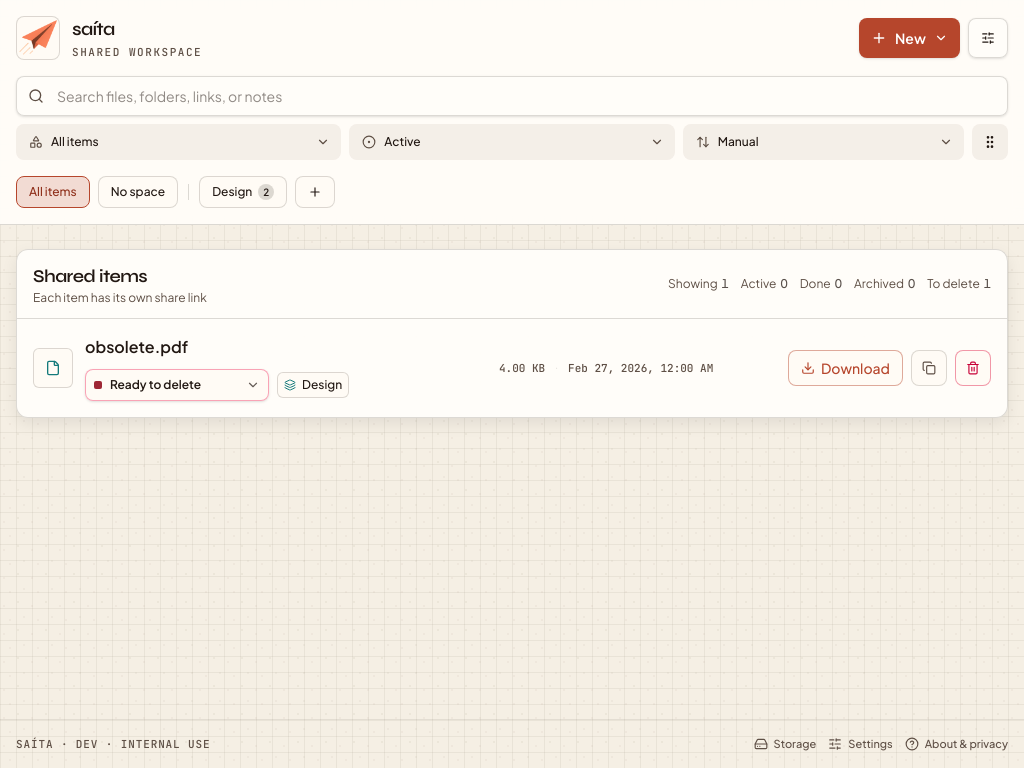
Scenario: refetches spaces after deleting a ready-to-delete item
Expected: the text "obsolete.pdf" is shown, left=85, top=336, right=188, bottom=357
Expected: the button "Design 2" is shown, left=199, top=176, right=287, bottom=208
Click the button named "Delete" at (973, 368), box left=955, top=350, right=991, bottom=386
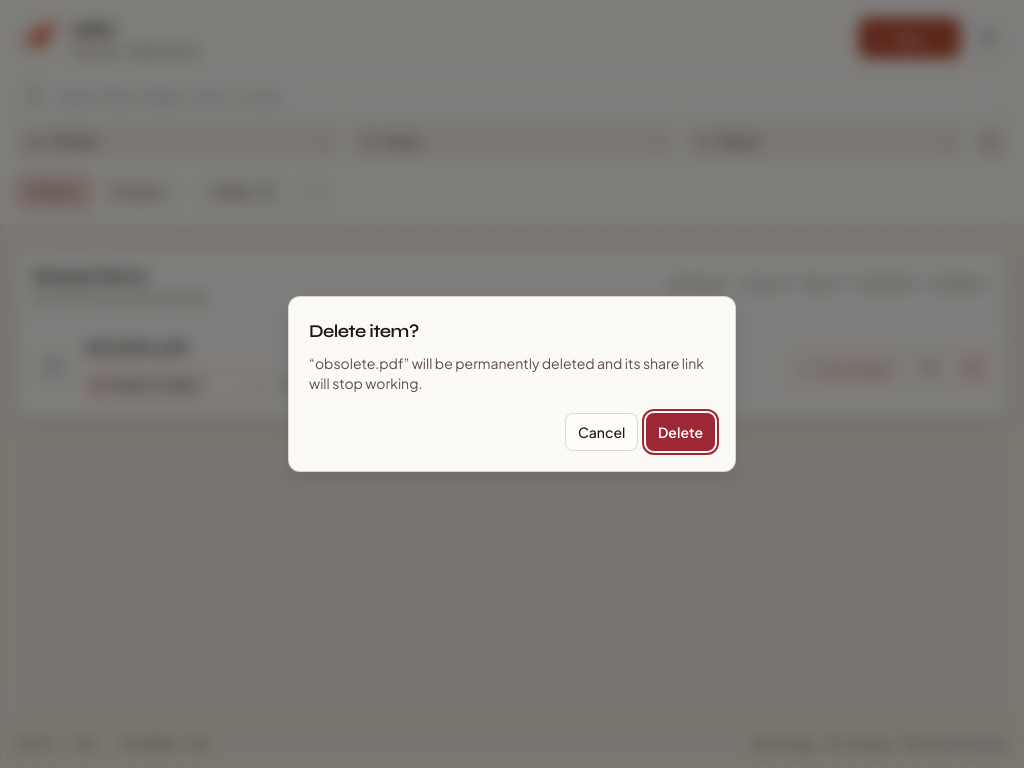
Click the button "Delete" at (680, 432), box left=646, top=413, right=715, bottom=451
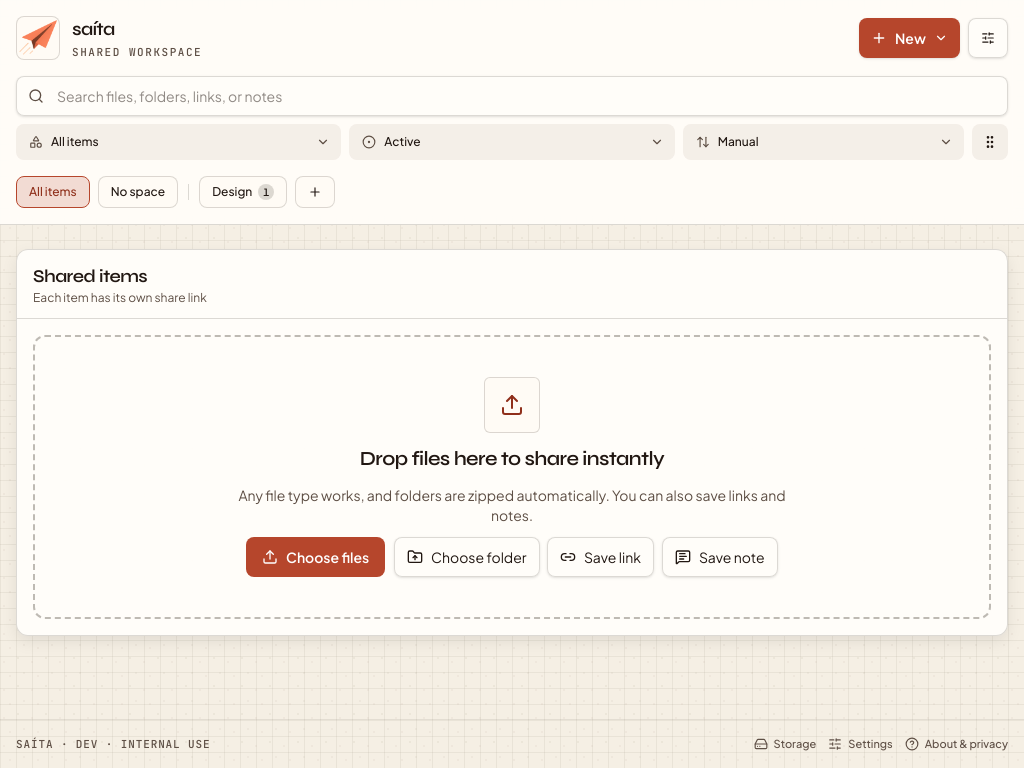
Now the button "Design 1" is shown, box left=199, top=176, right=287, bottom=208
